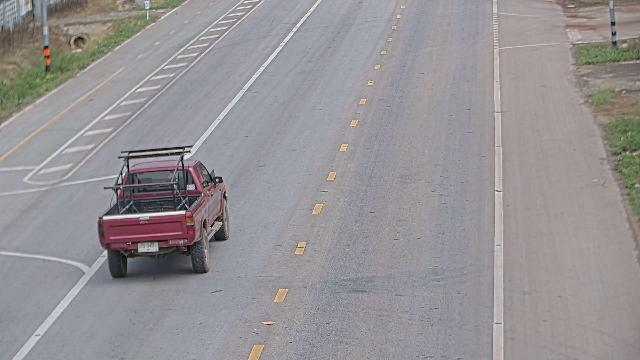pickup-truck: (97, 145, 230, 278)
